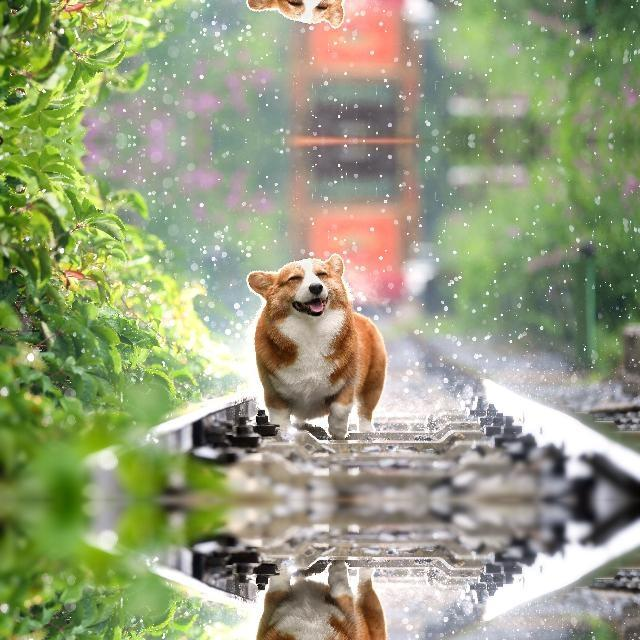dog: (238, 249, 394, 439), (238, 561, 394, 640), (238, 0, 394, 31)
